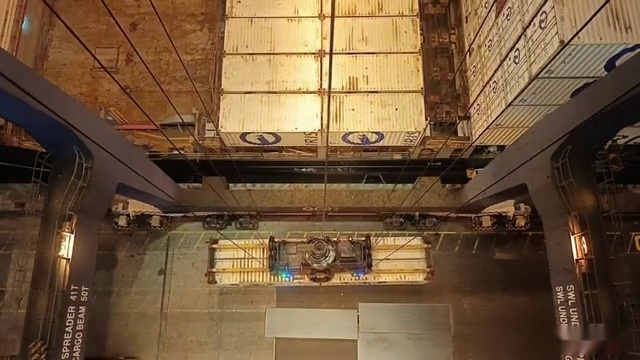container: (205, 225, 438, 284), (219, 90, 430, 146), (218, 50, 428, 89), (222, 16, 423, 51), (222, 0, 424, 23), (222, 0, 421, 20), (455, 3, 640, 24), (209, 0, 435, 17)
guide_mark: (110, 232, 543, 250), (66, 349, 560, 360)
spreader: (201, 228, 441, 286)
target_slot: (123, 282, 370, 329)
